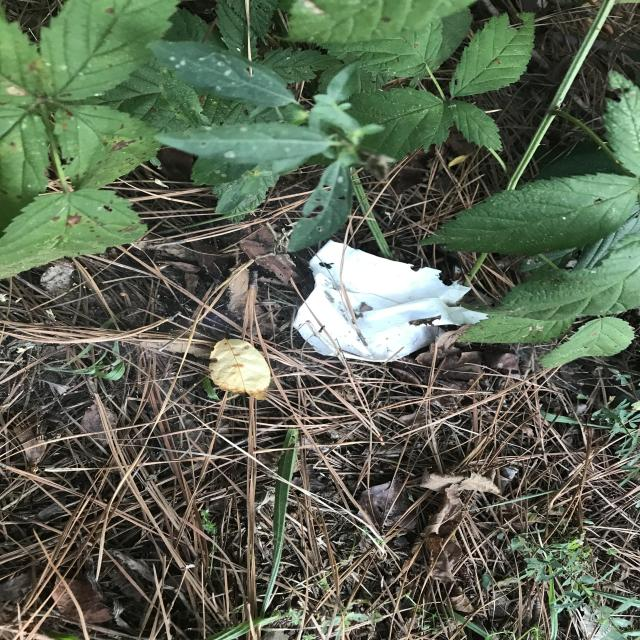litter: (292, 241, 492, 364)
